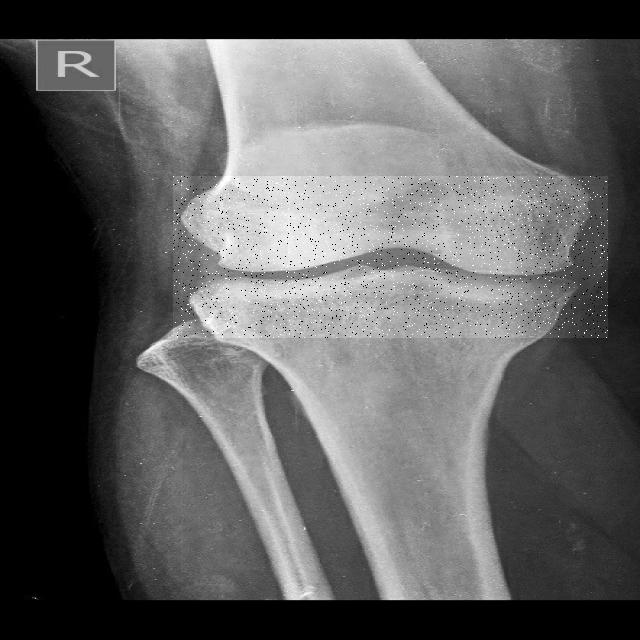osteo: (173, 176, 608, 338)
